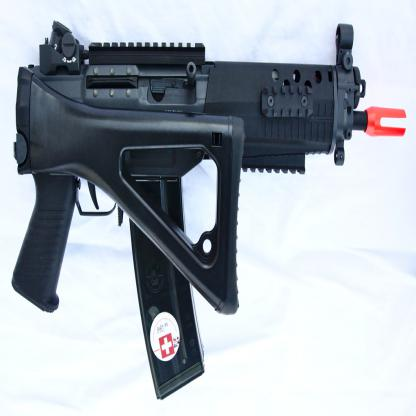Handgun: (11, 19, 406, 400)
